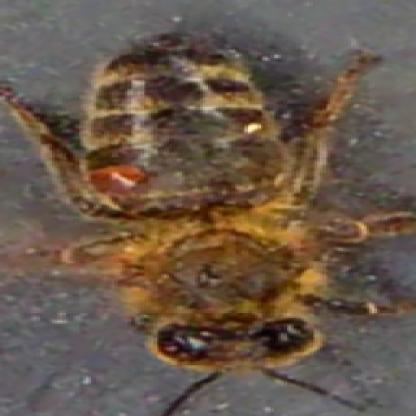bee: (58, 29, 354, 372)
vaoora: (93, 166, 146, 195)
